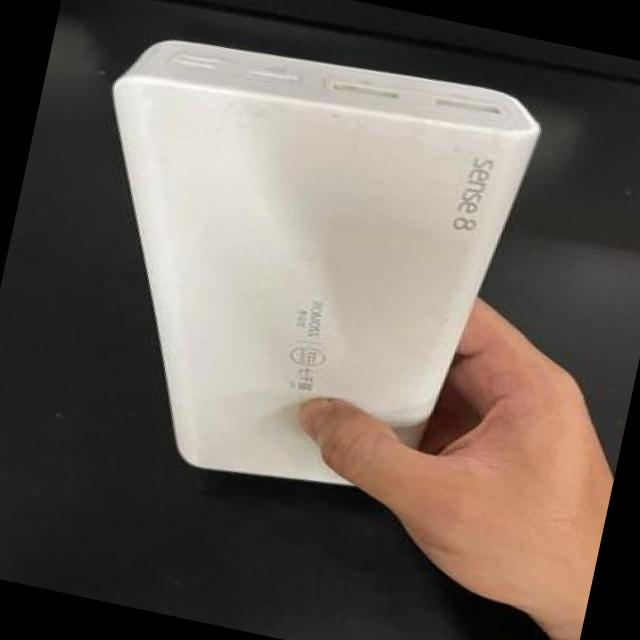portable-charger: (26, 0, 571, 535)
